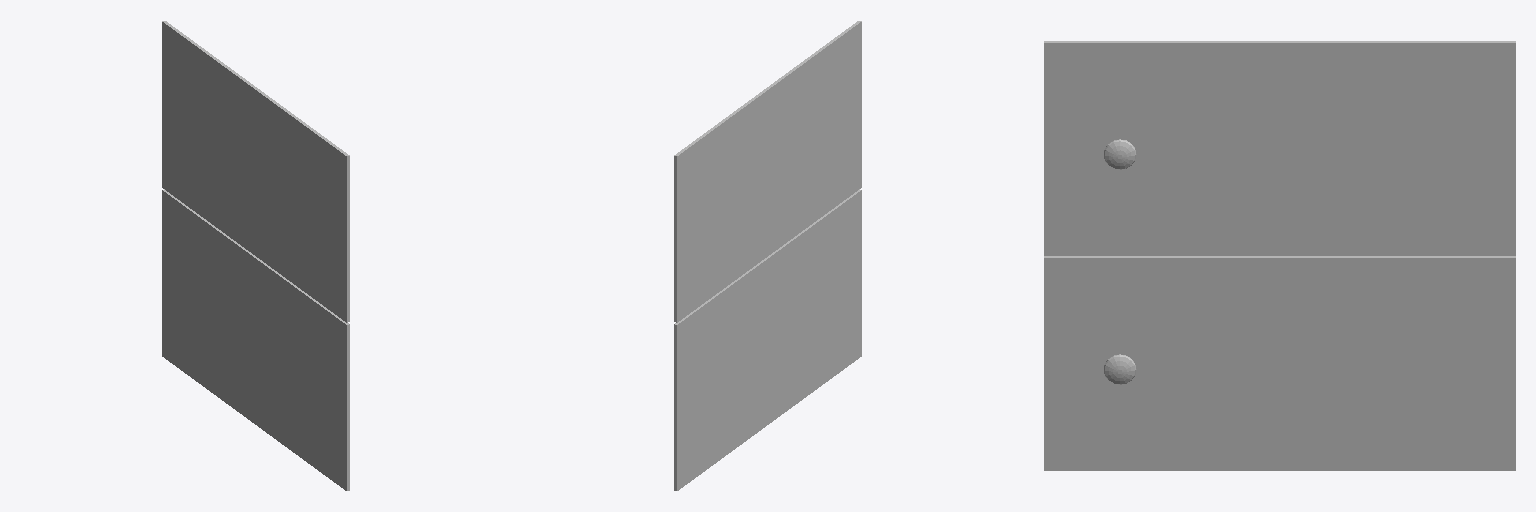
robot.urdf — my_urdf:
<?xml version='1.0' encoding='utf-8'?>
<robot name="my_urdf"><link name="base_link"><visual><origin xyz="0 0 0" rpy="0.0 0.0 0.0" /><material name="white"><color rgba="0.8 0.8 0.8 1" /></material><geometry><mesh filename="../meshes/cabinet.obj" scale="1 1 1" /></geometry></visual><collision><origin xyz="0 0 0" rpy="0.0 0.0 0.0" /><geometry><mesh filename="../meshes/cabinet.obj" scale="1 1 1" /></geometry></collision><inertial><mass value="1" /><inertia ixx="1e-4" ixy="0" ixz="0" iyy="1e-4" iyz="0" izz="1e-4" /></inertial></link><link name="doorR0"><visual><origin xyz="0 0 0" rpy="0 0 0" /><material name="white"><color rgba="0.8 0.8 0.8 1" /></material><geometry><mesh filename="../meshes/parts/doorR.obj" scale="1 3.99 1.99" /></geometry></visual><collision><origin xyz="0 0 0" rpy="0 0 0" /><geometry><mesh filename="../meshes/parts/doorR.obj" scale="1 3.99 1.99" /></geometry></collision><inertial><mass value="0.2" /><inertia ixx="1e-4" ixy="0" ixz="0" iyy="1e-4" iyz="0" izz="1e-4" /></inertial></link><joint name="doorR0_to_base_link" type="revolute"><axis xyz="0 0 1" /><limit effort="5" lower="0" upper="1.57" velocity="2.283" /><origin xyz="0 1.0 0.0" rpy="-0.0 -0.0 -0.0" /><parent link="base_link" /><child link="doorR0" /></joint><link name="doorR1"><visual><origin xyz="0 0 0" rpy="0 0 0" /><material name="white"><color rgba="0.8 0.8 0.8 1" /></material><geometry><mesh filename="../meshes/parts/doorR.obj" scale="1 3.99 1.99" /></geometry></visual><collision><origin xyz="0 0 0" rpy="0 0 0" /><geometry><mesh filename="../meshes/parts/doorR.obj" scale="1 3.99 1.99" /></geometry></collision><inertial><mass value="0.2" /><inertia ixx="1e-4" ixy="0" ixz="0" iyy="1e-4" iyz="0" izz="1e-4" /></inertial></link><joint name="doorR1_to_base_link" type="revolute"><axis xyz="0 0 1" /><limit effort="5" lower="0" upper="1.57" velocity="2.283" /><origin xyz="0 1.0 0.5" rpy="-0.0 -0.0 -0.0" /><parent link="base_link" /><child link="doorR1" /></joint><link name="knob2"><visual><origin xyz="0 0 0" rpy="0 0 0" /><material name="white"><color rgba="0.8 0.8 0.8 1" /></material><geometry><mesh filename="../meshes/parts/knob.obj" scale="1 1 1" /></geometry></visual><collision><origin xyz="0 0 0" rpy="0 0 0" /><geometry><mesh filename="../meshes/parts/knob.obj" scale="1 1 1" /></geometry></collision><inertial><mass value="0.2" /><inertia ixx="1e-4" ixy="0" ixz="0" iyy="1e-4" iyz="0" izz="1e-4" /></inertial></link><joint name="knob2_to_doorR0" type="fixed"><axis xyz="1 0 0" /><limit effort="5" lower="0" upper="1.57" velocity="2.283" /><origin xyz="0 -0.8333333333333334 0.25" rpy="0.0 0.0 0.0" /><parent link="doorR0" /><child link="knob2" /></joint><link name="knob3"><visual><origin xyz="0 0 0" rpy="0 0 0" /><material name="white"><color rgba="0.8 0.8 0.8 1" /></material><geometry><mesh filename="../meshes/parts/knob.obj" scale="1 1 1" /></geometry></visual><collision><origin xyz="0 0 0" rpy="0 0 0" /><geometry><mesh filename="../meshes/parts/knob.obj" scale="1 1 1" /></geometry></collision><inertial><mass value="0.2" /><inertia ixx="1e-4" ixy="0" ixz="0" iyy="1e-4" iyz="0" izz="1e-4" /></inertial></link><joint name="knob3_to_doorR1" type="fixed"><axis xyz="1 0 0" /><limit effort="5" lower="0" upper="1.57" velocity="2.283" /><origin xyz="0 -0.8333333333333334 0.25" rpy="0.0 0.0 0.0" /><parent link="doorR1" /><child link="knob3" /></joint></robot>

--- Facts derived from the render (not from the file) ---
3 views of the same robot in one strip: view 1: azimuth 30°, elevation 25°; view 2: azimuth 150°, elevation 25°; view 3: azimuth 270°, elevation 25° (orthographic).
Model my_urdf with 5 links and 4 joints (2 revolute, 2 fixed), rooted at base_link, posed every joint at zero.
Links seen in each view (by area): view 1: doorR1, doorR0; view 2: doorR1, doorR0; view 3: doorR0, doorR1, knob2, knob3.
Link boxes in pixels (x1,y1,x2,y2): doorR1: (162, 21, 349, 322); doorR0: (162, 189, 349, 490); doorR1: (674, 21, 861, 322); doorR0: (674, 189, 861, 490); doorR0: (1044, 256, 1515, 470); doorR1: (1044, 41, 1515, 255); knob2: (1104, 354, 1136, 384); knob3: (1104, 139, 1136, 169).
Size in the robot's own frame: 0.0542 by 0.9925 by 0.9934 metres.
Meshes: 3 distinct files referenced, 4 mesh visuals loaded (2 OBJ); not drawn: 1 (reference not matched to a file when rendering).